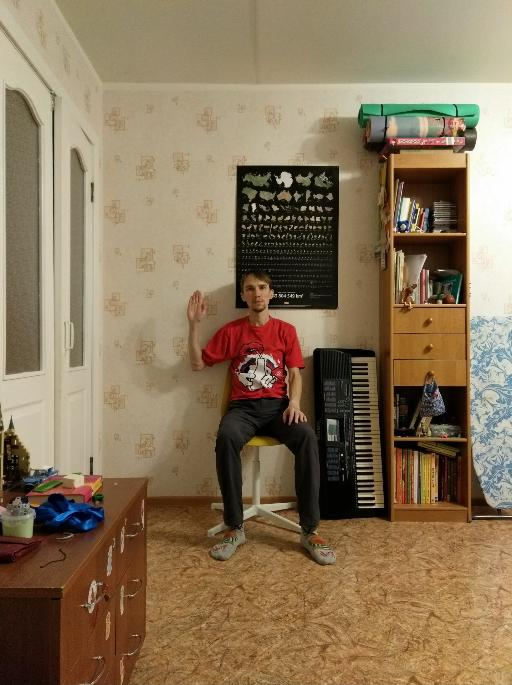no_gesture: (282, 402, 308, 426)
stop: (186, 288, 206, 324)
